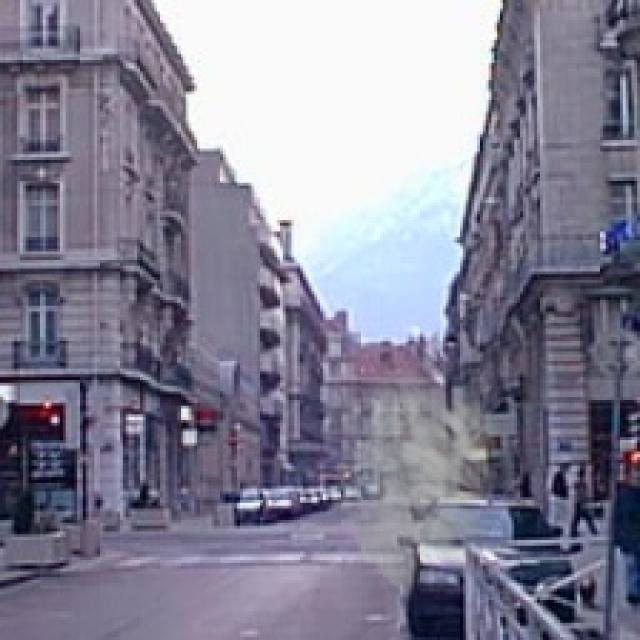Smoke: (319, 357, 532, 600)
